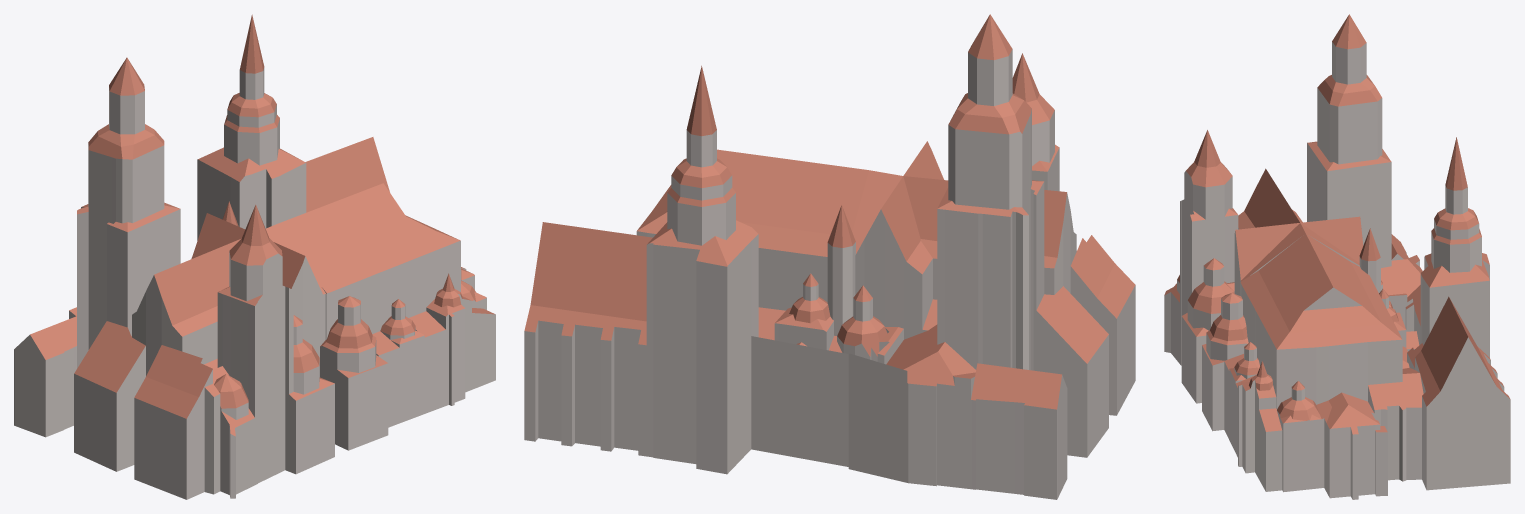
File: wawel-cathedral.glb
3 views of the same model, side by side, from view 1: azimuth 30°, elevation 25°; view 2: azimuth 150°, elevation 25°; view 3: azimuth 270°, elevation 25° (orthographic). The views are drawn at different scales.
Parts seen in each view (by area): view 1: Wawel Cathedral; view 2: Wawel Cathedral; view 3: Wawel Cathedral.
Part boxes in pixels (bbox=[...]): Wawel Cathedral: bbox=[14, 14, 495, 499]; Wawel Cathedral: bbox=[524, 14, 1135, 499]; Wawel Cathedral: bbox=[1164, 14, 1510, 499].
Size of the model in its own units: 82.56 by 68.28 by 64.08.
